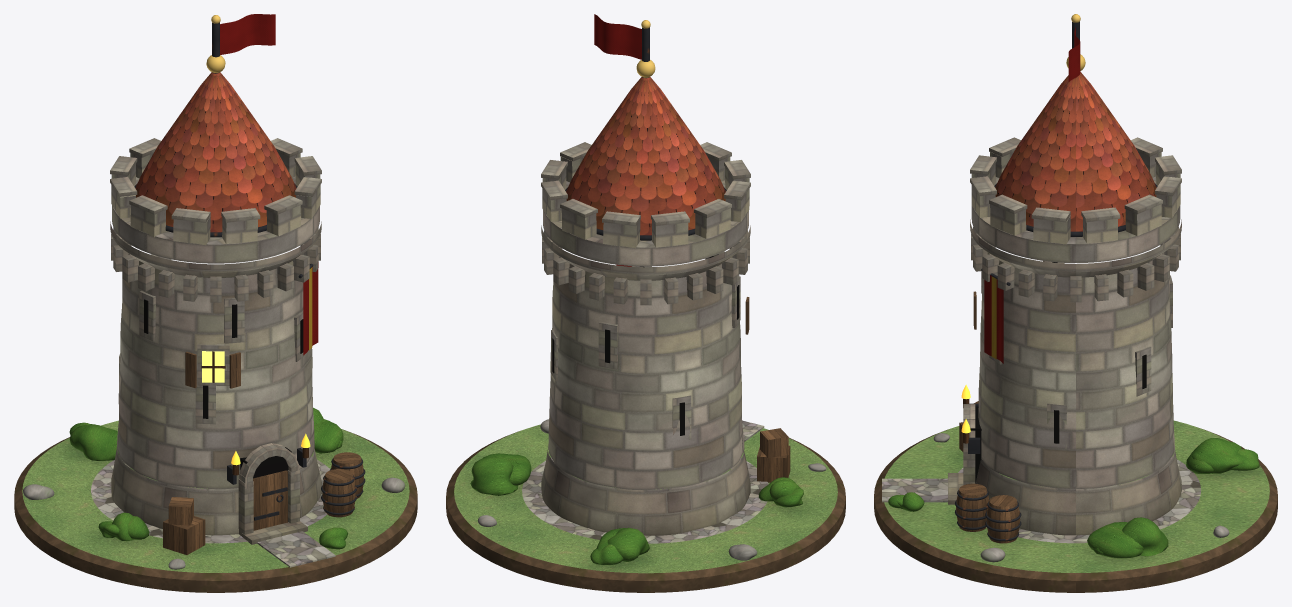
File: baszta.glb
3 views of the same model, side by side, from view 1: azimuth 30°, elevation 25°; view 2: azimuth 150°, elevation 25°; view 3: azimuth 270°, elevation 25° (orthographic).
Visible parts, largest first — view 1: baszta; view 2: baszta; view 3: baszta.
Boxes of the visible parts, x1,y1,x2,y2 form: baszta: [14, 14, 417, 592]; baszta: [446, 14, 845, 592]; baszta: [874, 14, 1277, 592].
Bounding box in the file's own units: 1 × 1.35 × 1.
Materials: 17 (13 with a texture image).
